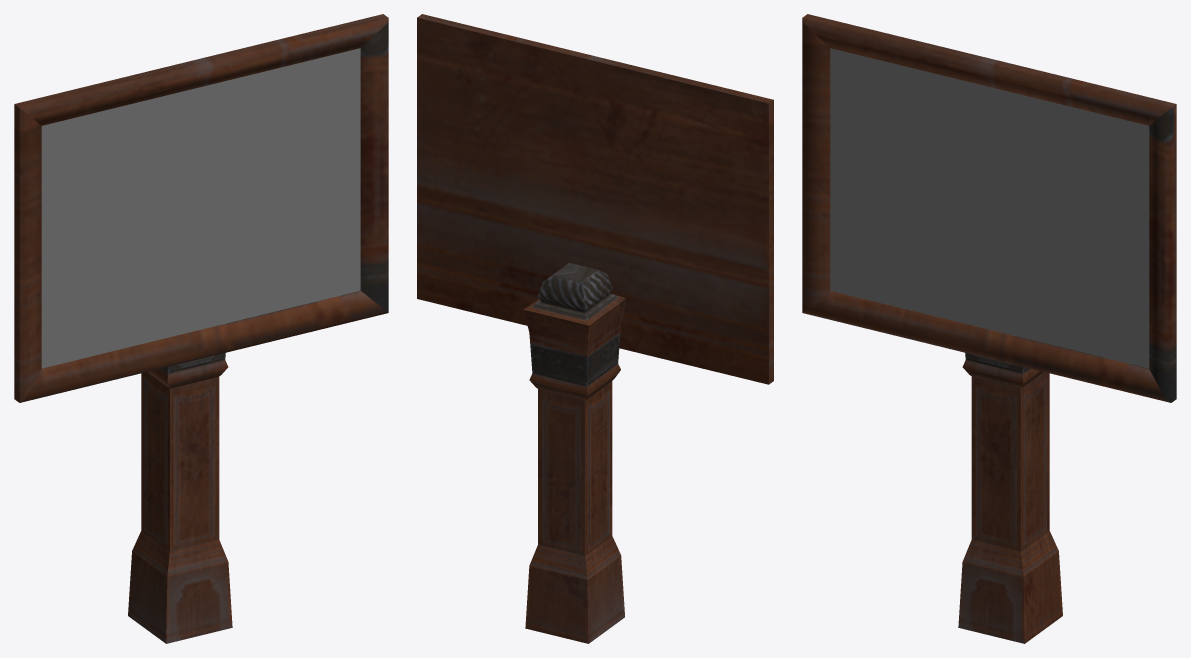
File: SignBoard.fbx
3 views of the same model, side by side, from view 1: azimuth 30°, elevation 25°; view 2: azimuth 150°, elevation 25°; view 3: azimuth 330°, elevation 25° (orthographic). The views are drawn at different scales.
Visible parts, largest first — view 1: RenderTExture, Picture_6, Banister_End_LOD0; view 2: Picture_6, Banister_End_LOD0; view 3: RenderTExture, Picture_6, Banister_End_LOD0.
Part boxes in pixels (x1,y1,x2,y2): RenderTExture: (41, 48, 360, 368); Picture_6: (14, 14, 388, 402); Banister_End_LOD0: (128, 352, 232, 643); Picture_6: (417, 14, 773, 384); Banister_End_LOD0: (523, 263, 625, 643); RenderTExture: (830, 48, 1149, 368); Picture_6: (802, 14, 1176, 402); Banister_End_LOD0: (958, 352, 1062, 643).
Bounding box in the file's own units: 1.37 × 2.05 × 0.2926.
